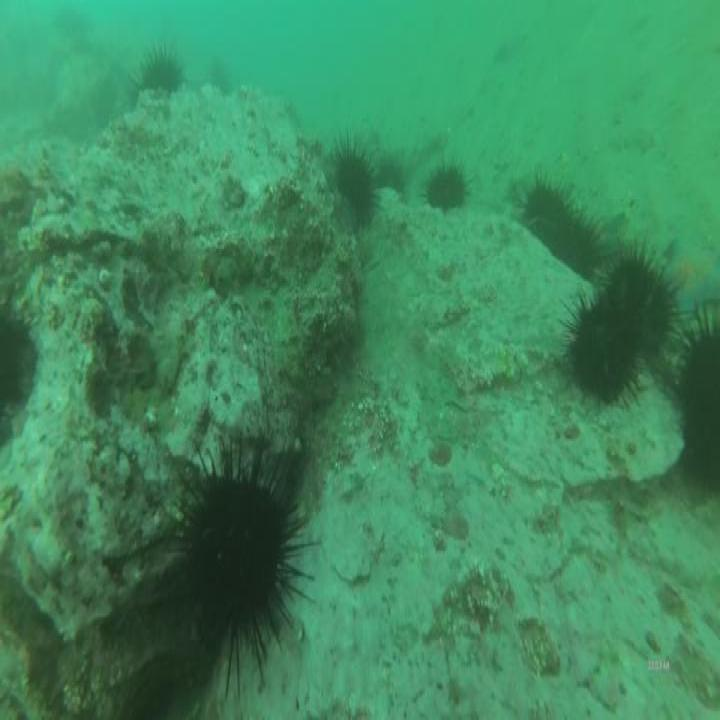echinus: (175, 460, 295, 656), (524, 181, 598, 274), (609, 258, 670, 368), (681, 325, 720, 489), (571, 300, 635, 398), (333, 148, 376, 224), (426, 164, 466, 214), (139, 53, 181, 91), (384, 151, 405, 189)
starfish: (658, 233, 720, 316)
